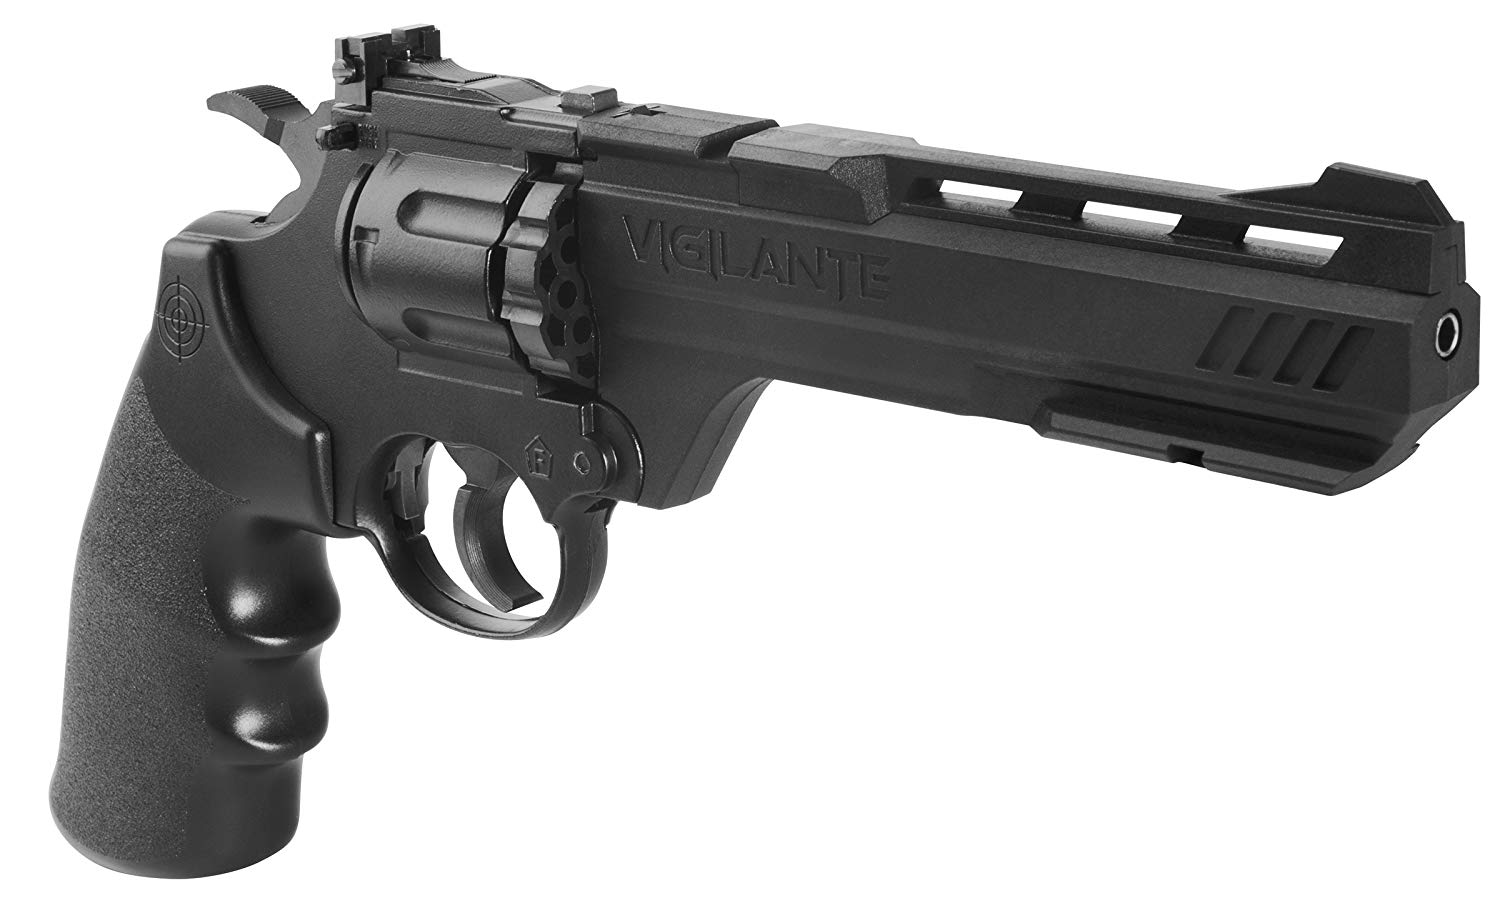Revolver: (14, 3, 1484, 889)
